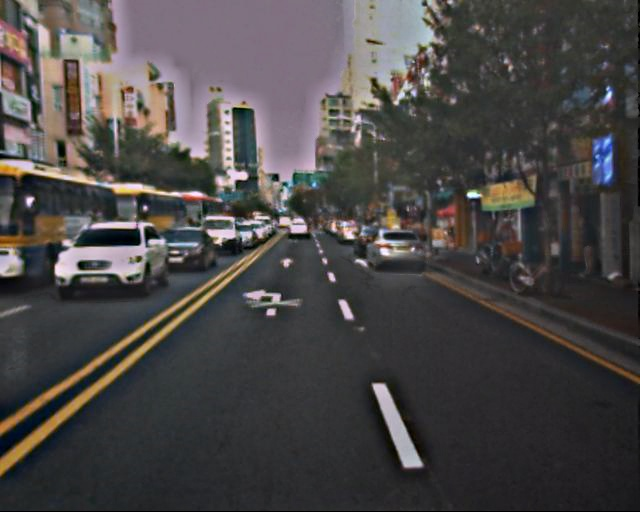person: (569, 213, 602, 282)
